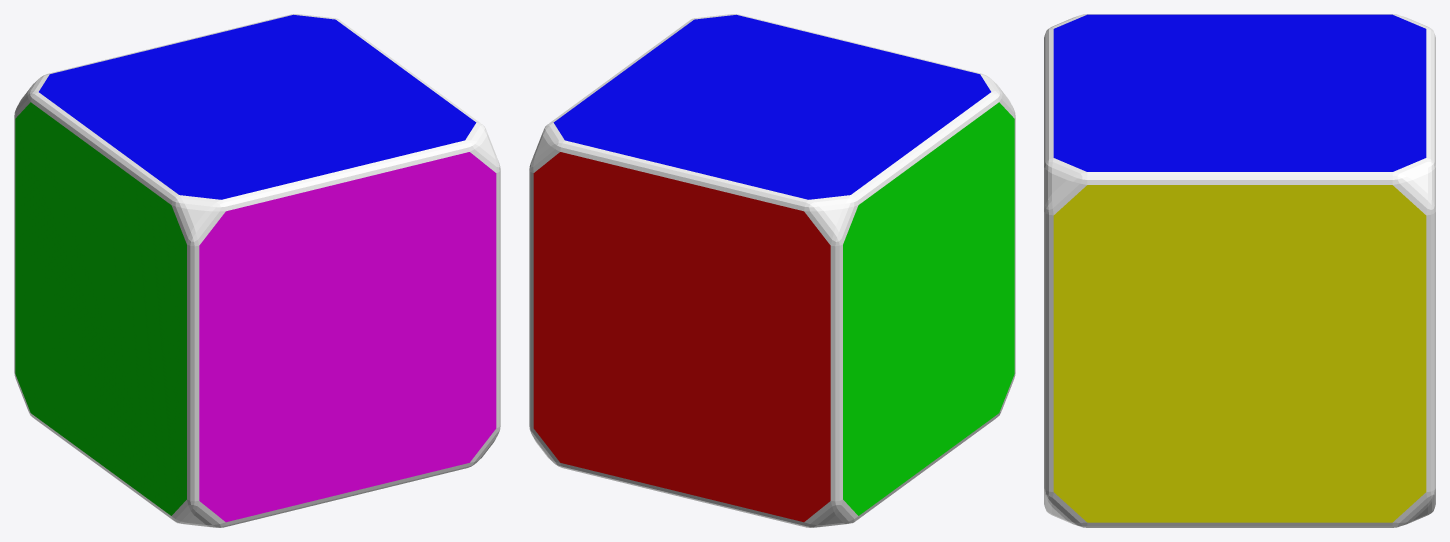
File: dice.fbx
3 renders of one model, left to right at view 1: azimuth 30°, elevation 25°; view 2: azimuth 150°, elevation 25°; view 3: azimuth 270°, elevation 25°, orthographic. The views are drawn at different scales.
Visible parts, largest first — view 1: Cube; view 2: Cube; view 3: Cube.
Part boxes in pixels (x1,y1,x2,y2): Cube: [14, 14, 500, 527]; Cube: [529, 14, 1015, 527]; Cube: [1044, 14, 1435, 527].
Bounding box in the file's own units: 200 × 200 × 200.
